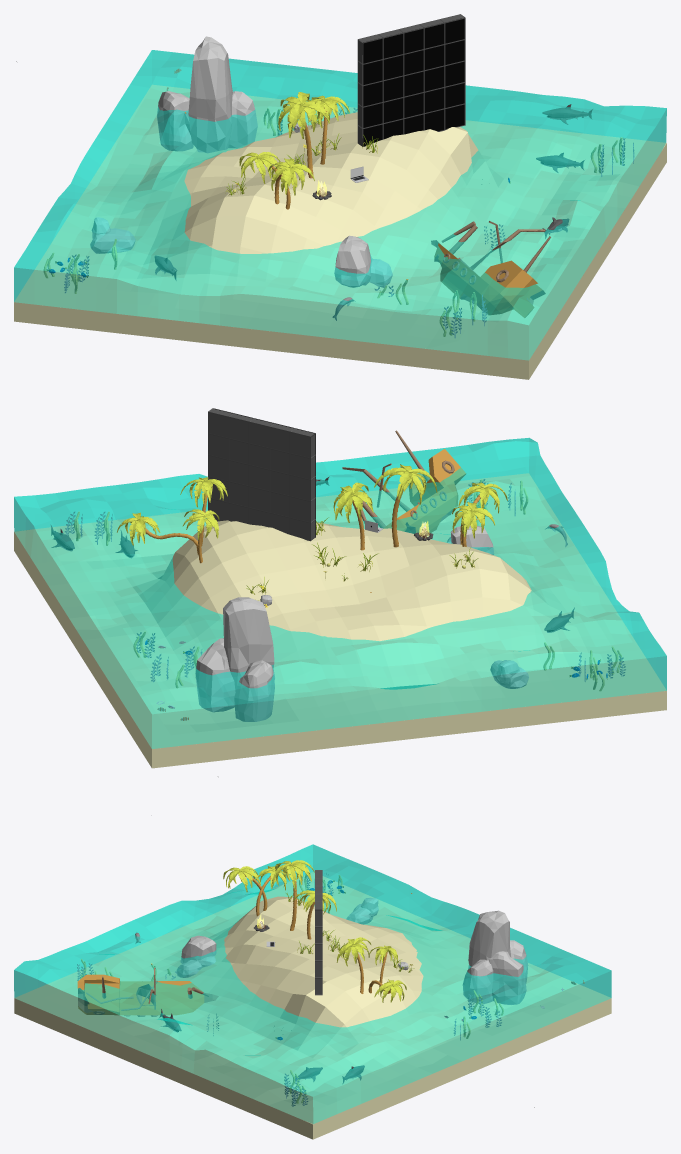
Rendered from island.glb.
The picture shows the model from 3 angles, top to bottom: view 1: azimuth 30°, elevation 25°; view 2: azimuth 150°, elevation 25°; view 3: azimuth 270°, elevation 25°; orthographic projection. The views are drawn at different scales.
Visible parts, largest first — view 1: Floor_Grid, Water, Screen_billboard, WE1-material.004, BN-material.005, billboard-wireframe, WE1-material.008, GN1-material.007, BN2-material, WE1-material.003, billboard, GN1-material.015 (+1 smaller); view 2: Floor_Grid, Water, billboard, WE1-material.004, BN-material.005, billboard-wireframe, GN1-material.013, GN1-material.007, BN2-material, WE1-material.003, GN1-material.014, WE1-material.008 (+1 smaller); view 3: Floor_Grid, Water, WE1-material.004, BN-material.005, GN1-material.013, WE1-material.008, BN2-material, GN1-material.007, billboard, WE1-material.003, GN1-material.015.
Boxes of the visible parts, box(x1,y1,x2,y2) form: Floor_Grid: box(14, 84, 666, 379); Water: box(14, 50, 666, 360); Screen_billboard: box(362, 18, 464, 146); WE1-material.004: box(157, 36, 257, 153); BN-material.005: box(434, 243, 543, 317); billboard-wireframe: box(357, 14, 465, 146); WE1-material.008: box(334, 235, 392, 287); GN1-material.007: box(278, 92, 349, 138); BN2-material: box(431, 221, 550, 313); WE1-material.003: box(90, 217, 135, 253); billboard: box(358, 14, 463, 146); GN1-material.015: box(268, 158, 314, 195); Floor_Grid: box(14, 473, 666, 768); Water: box(14, 437, 666, 748); billboard: box(208, 409, 315, 540); WE1-material.004: box(195, 597, 274, 721); BN-material.005: box(383, 449, 465, 532); billboard-wireframe: box(208, 408, 315, 541); GN1-material.013: box(117, 477, 227, 545); GN1-material.007: box(333, 464, 437, 522); BN2-material: box(342, 430, 454, 533); WE1-material.003: box(490, 660, 528, 688); GN1-material.014: box(452, 502, 495, 538); WE1-material.008: box(447, 525, 494, 554); Floor_Grid: box(14, 872, 611, 1139); Water: box(14, 844, 611, 1123); WE1-material.004: box(462, 910, 528, 1004); BN-material.005: box(77, 974, 204, 1015); GN1-material.013: box(336, 937, 406, 1002); WE1-material.008: box(176, 935, 216, 977); BN2-material: box(78, 967, 218, 1016); GN1-material.007: box(272, 860, 336, 914); billboard: box(315, 870, 322, 994); WE1-material.003: box(346, 898, 378, 924); GN1-material.015: box(223, 866, 260, 892).
Bounding box in the file's own units: 7.07 × 2.97 × 7.73.
Materials: 38 (2 with a texture image).
